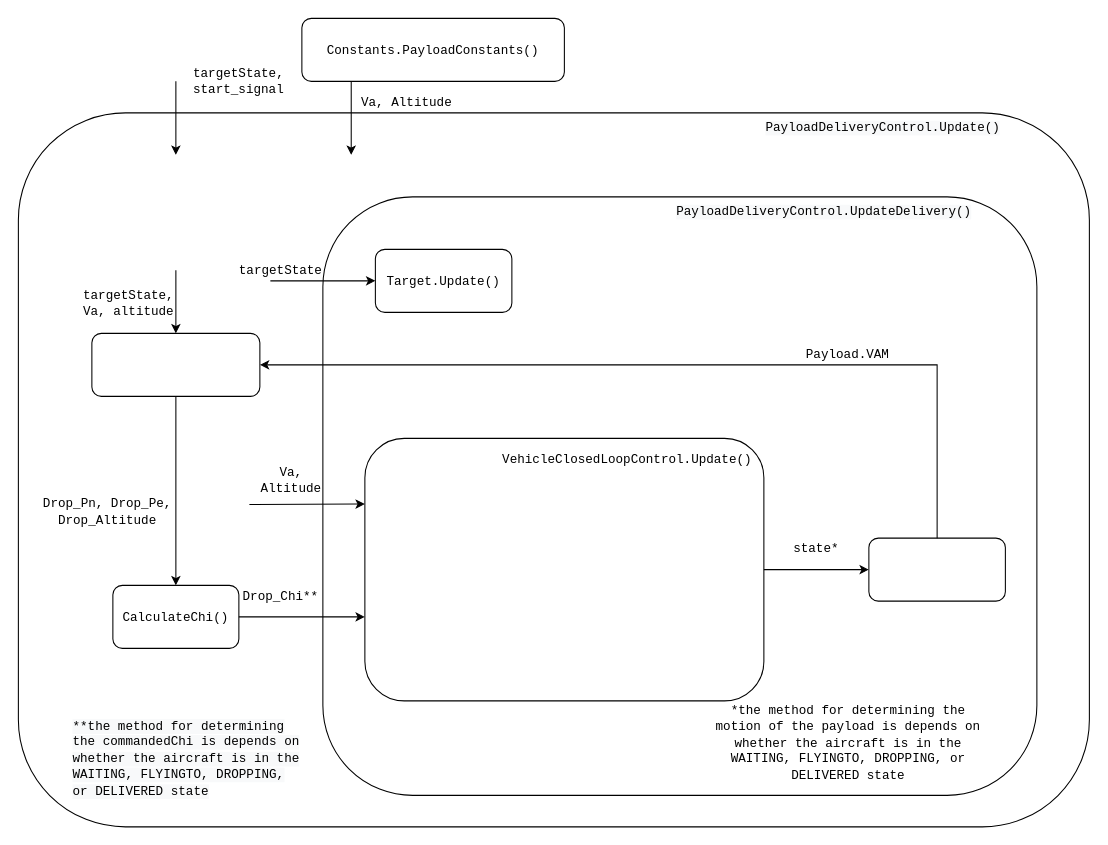
Some shapes in this 1108 by 845 pixel diagram are drawn without their labels. Each missing label, with the centre of its shape:
"CalculateDropPoint()" goes at (175,364).
"Payload.Update()" goes at (936,569).
